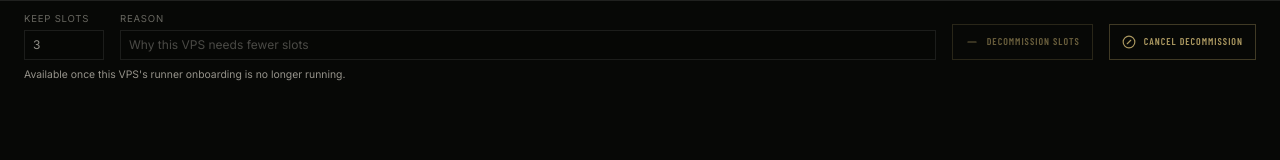
Test: reports a committed decommission's cancel as an alert
The width and height of the screenshot is (1280, 160).
What coordinates should you click on to do the following:
click the button "Cancel decommission"
I would click on:
 (1182, 42)
Its box is [1109, 24, 1256, 60].
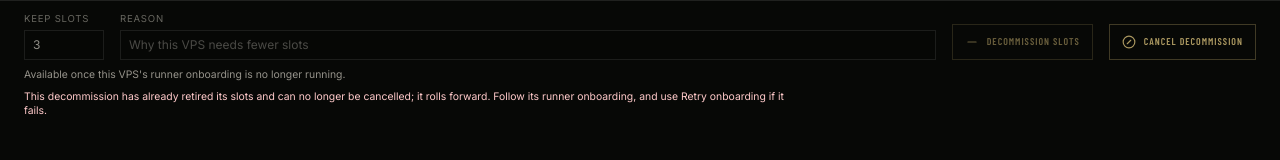
Expected: the message shows "can no longer be cancelled; it rolls forward", [24, 90, 784, 117]
